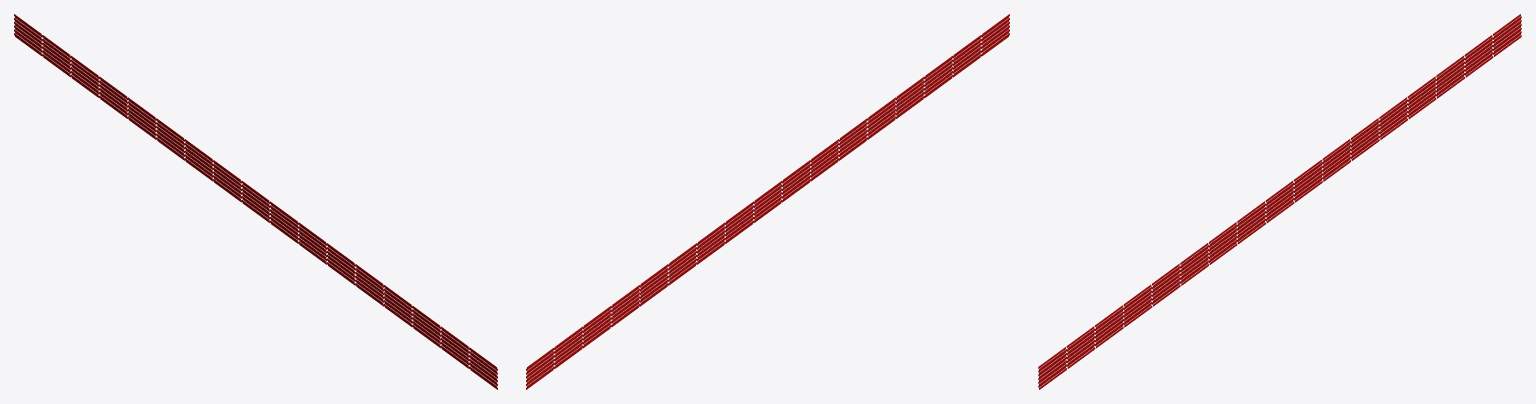
Rendered from iron fence.FBX.
3 views of the same model, side by side, from view 1: azimuth 30°, elevation 25°; view 2: azimuth 150°, elevation 25°; view 3: azimuth 330°, elevation 25° (orthographic).
Visible parts, largest first — view 1: iron fence; view 2: iron fence; view 3: iron fence.
Part boxes in pixels (x1,y1,x2,y2): iron fence: [14, 14, 497, 389]; iron fence: [526, 14, 1009, 389]; iron fence: [1038, 14, 1521, 389].
Size of the model in its own units: 9.69 by 149 by 5679.
